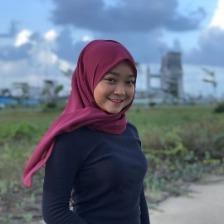Non Syar-i: (21, 35, 140, 188)
